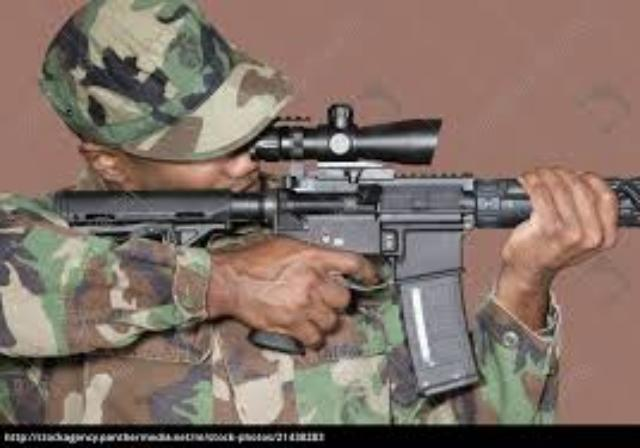other: (0, 40, 572, 410)
